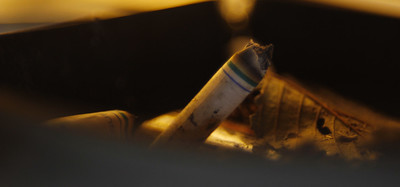cigarette: (138, 38, 288, 155)
